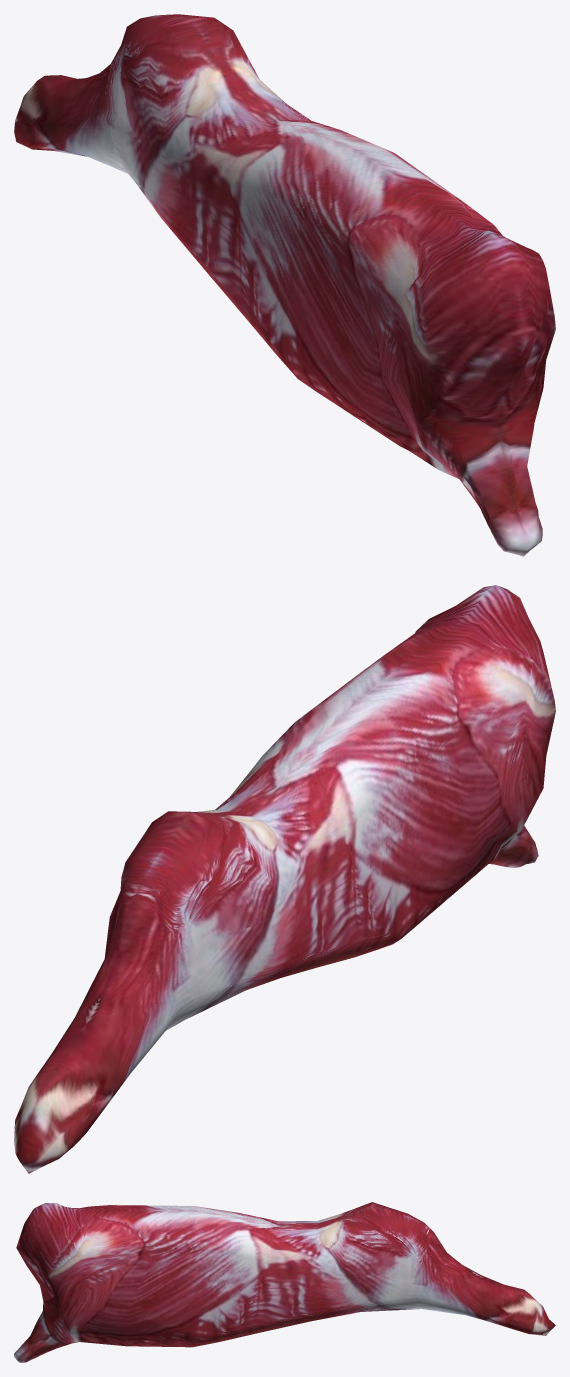
Rendered from Hanging_Meat 1.fbx.
3 renders of one model, top to bottom at view 1: azimuth 30°, elevation 25°; view 2: azimuth 150°, elevation 25°; view 3: azimuth 270°, elevation 25°, orthographic. The views are drawn at different scales.
Visible parts, largest first — view 1: Hanging_beef; view 2: Hanging_beef; view 3: Hanging_beef.
Part boxes in pixels (bbox=[...]): Hanging_beef: bbox=[14, 14, 555, 556]; Hanging_beef: bbox=[14, 585, 555, 1173]; Hanging_beef: bbox=[14, 1202, 555, 1362].
Bounding box in the file's own units: 69.56 × 158 × 484.
